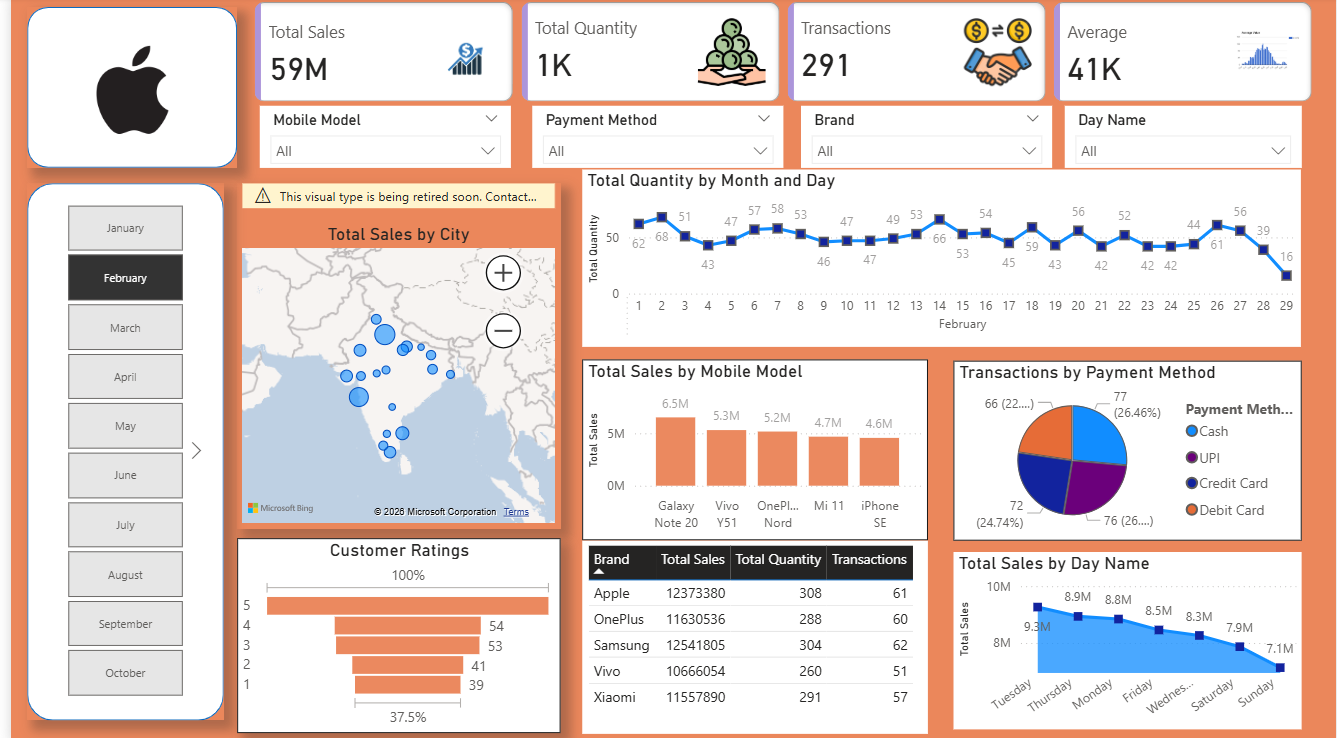

What the dashboard file says about the page in this screenshot:
{"tool":"powerbi","page":{"name":"Page 1","canvas":[1280,720],"ordinal":0},"visuals":[{"type":"shape","box":[15.8,10.1,202.6,155.2],"z":0},{"type":"image","box":[14.4,0,205.4,179.6],"z":1000},{"type":"shape","box":[15.8,179.6,189.6,518.6],"z":2000},{"type":"cardVisual","fields":{"Data":["mobiles sales.Total Sales","mobiles sales.Total Quantity","mobiles sales.Transactions","mobiles sales.Average"]},"box":[229.9,0,1030,106.3],"z":4000},{"type":"map","fields":{"Category":["mobiles sales.City"],"Size":["mobiles sales.Total Sales"]},"box":[218.4,179.6,311.7,333.3],"z":5000},{"type":"lineChart","fields":{"Y":["mobiles sales.Total Quantity"],"Category":["mobiles sales.Date.Variation.Date Hierarchy.Month","mobiles sales.Date.Variation.Date Hierarchy.Day"]},"box":[551.6,166.6,693.9,171],"z":6000},{"type":"columnChart","fields":{"Category":["mobiles sales.Mobile Model"],"Y":["mobiles sales.Total Sales"]},"box":[551.7,349.8,333.2,174.2],"z":7000},{"type":"pieChart","fields":{"Category":["mobiles sales.Payment Method"],"Y":["mobiles sales.Transactions"]},"box":[909.4,350.5,336.2,173.8],"z":8000},{"type":"funnel","title":" Customer Ratings","fields":{"Category":["mobiles sales.Customer Ratings"],"Y":["CountNonNull(mobiles sales.Customer Ratings)"]},"box":[218.4,522.9,311.7,188.2],"z":9000},{"type":"tableEx","fields":{"Values":["mobiles sales.Brand","mobiles sales.Total Sales","mobiles sales.Total Quantity","mobiles sales.Transactions"]},"box":[551.6,524.4,333.3,186.8],"z":10000},{"type":"slicer","fields":{"Values":["mobiles sales.Date.Variation.Date Hierarchy.Month"]},"box":[28.7,193.9,160.9,487],"z":10001},{"type":"areaChart","fields":{"Y":["mobiles sales.Total Sales"],"Category":["mobiles sales.Day Name"]},"box":[909.4,535.8,336.2,171],"z":10002},{"type":"slicer","fields":{"Values":["mobiles sales.Mobile Model"]},"box":[239.9,104.9,242.8,60.3],"z":10003},{"type":"slicer","fields":{"Values":["mobiles sales.Payment Method"]},"box":[502.8,104.9,242.8,60.3],"z":10004},{"type":"slicer","fields":{"Values":["mobiles sales.Brand"]},"box":[762.8,104.9,242.8,60.3],"z":10005},{"type":"slicer","fields":{"Values":["mobiles sales.Day Name"]},"box":[1017.1,104.9,228.4,60.3],"z":10006}]}

Visuals, with their boxes in screenshot pixels (x1, y1, x2, y2), scaled from the page's 1280x720 canvas onto the 1337x738 screenshot:
shape: {"left": 17, "top": 10, "right": 228, "bottom": 169}
image: {"left": 15, "top": 0, "right": 230, "bottom": 184}
shape: {"left": 17, "top": 184, "right": 215, "bottom": 716}
cardVisual - mobiles sales.Total Sales x mobiles sales.Total Quantity: {"left": 240, "top": 0, "right": 1316, "bottom": 109}
map - mobiles sales.City x mobiles sales.Total Sales: {"left": 228, "top": 184, "right": 554, "bottom": 526}
lineChart - mobiles sales.Total Quantity x mobiles sales.Date.Variation.Date Hierarchy.Month: {"left": 576, "top": 171, "right": 1301, "bottom": 346}
columnChart - mobiles sales.Mobile Model x mobiles sales.Total Sales: {"left": 576, "top": 359, "right": 924, "bottom": 537}
pieChart - mobiles sales.Payment Method x mobiles sales.Transactions: {"left": 950, "top": 359, "right": 1301, "bottom": 537}
" Customer Ratings" funnel: {"left": 228, "top": 536, "right": 554, "bottom": 729}
tableEx - mobiles sales.Brand x mobiles sales.Total Sales: {"left": 576, "top": 538, "right": 924, "bottom": 729}
slicer - mobiles sales.Date.Variation.Date Hierarchy.Month: {"left": 30, "top": 199, "right": 198, "bottom": 698}
areaChart - mobiles sales.Total Sales x mobiles sales.Day Name: {"left": 950, "top": 549, "right": 1301, "bottom": 724}
slicer - mobiles sales.Mobile Model: {"left": 251, "top": 108, "right": 504, "bottom": 169}
slicer - mobiles sales.Payment Method: {"left": 525, "top": 108, "right": 779, "bottom": 169}
slicer - mobiles sales.Brand: {"left": 797, "top": 108, "right": 1050, "bottom": 169}
slicer - mobiles sales.Day Name: {"left": 1062, "top": 108, "right": 1301, "bottom": 169}
